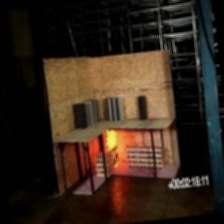fire: (100, 124, 130, 163)
